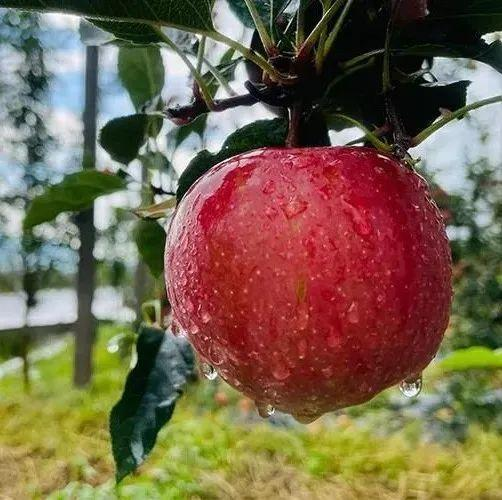apple: (161, 145, 451, 421)
